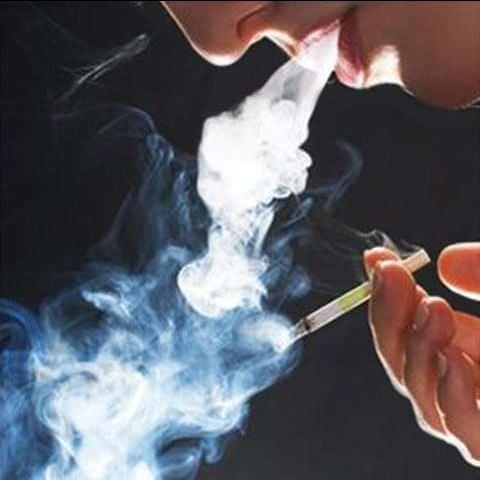Cigarette: (284, 248, 430, 342)
Smoke: (30, 36, 340, 479)
